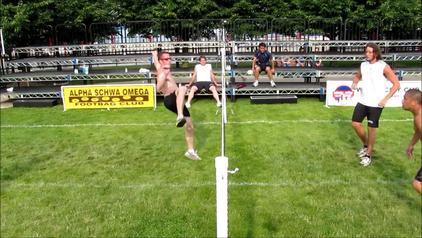sit: (186, 53, 220, 112), (152, 45, 179, 113), (253, 39, 276, 88)
walk: (350, 50, 399, 151)
